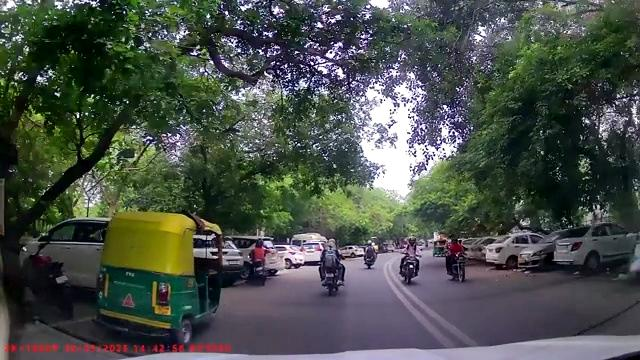motorcycle_with_helmet: (317, 237, 347, 296), (398, 236, 421, 284), (444, 237, 468, 283)
